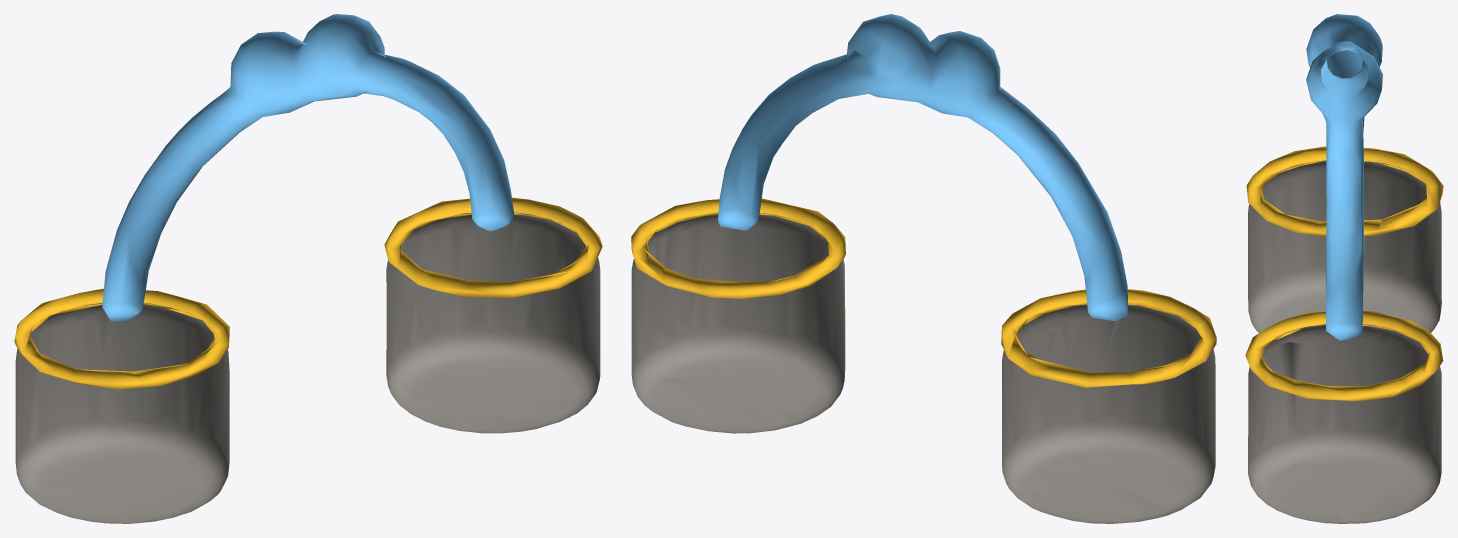
File: prop_swap.glb
The picture shows the model from 3 angles, left to right: view 1: azimuth 30°, elevation 25°; view 2: azimuth 150°, elevation 25°; view 3: azimuth 270°, elevation 25°; orthographic projection. The views are drawn at different scales.
Parts seen in each view (by area): view 1: body; view 2: body; view 3: body.
Boxes of the visible parts, <box> form: body: <box>14,14,602,523</box>; body: <box>631,14,1216,523</box>; body: <box>1245,14,1443,523</box>.
Bounding box in the file's own units: 4.83 × 3.42 × 1.64.
1 material, 1 textured.
